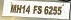character: (9, 4, 16, 13), (15, 4, 21, 13), (32, 5, 38, 14), (36, 5, 42, 14), (56, 6, 62, 15), (48, 5, 53, 15), (21, 5, 26, 14), (25, 5, 30, 14), (43, 5, 48, 14), (52, 6, 57, 15)
